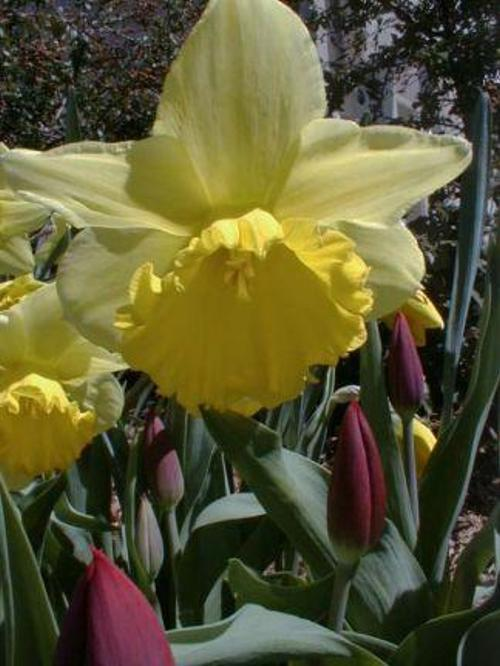flower1: (52, 3, 435, 420)
